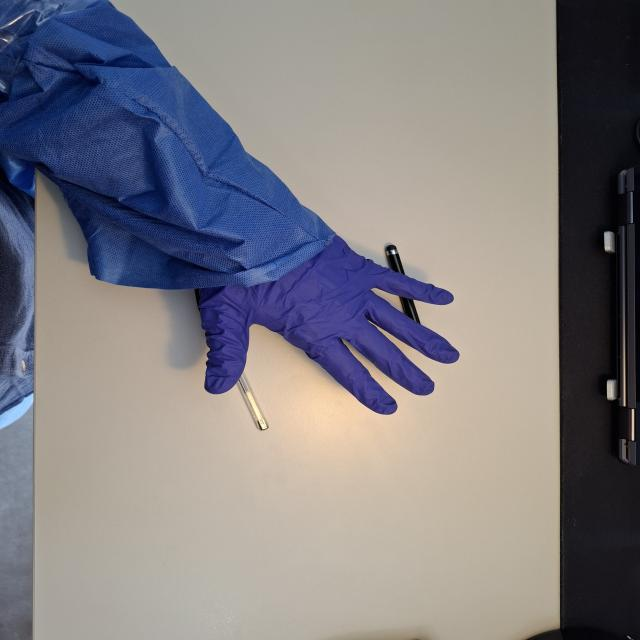glove_on: (189, 223, 464, 417)
